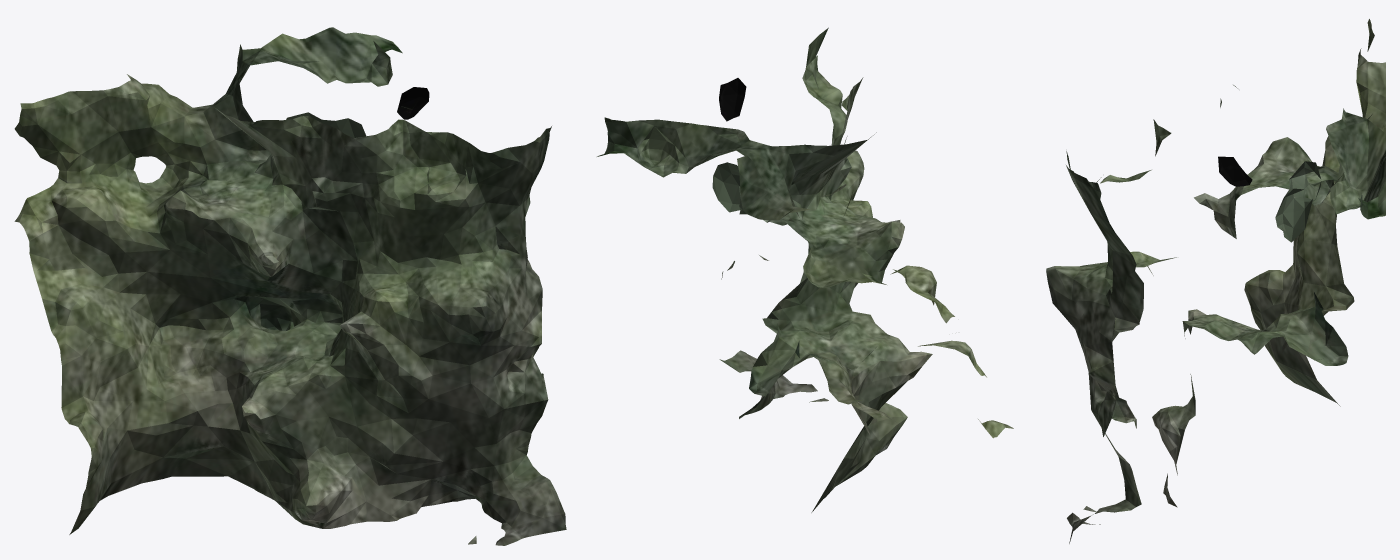
3 renders of one model, left to right at view 1: azimuth 30°, elevation 25°; view 2: azimuth 150°, elevation 25°; view 3: azimuth 270°, elevation 25°, orthographic. The views are drawn at different scales.
Size of the model in its own units: 5.9 by 5.9 by 5.01.
Materials: 5 (5 with a texture image).
